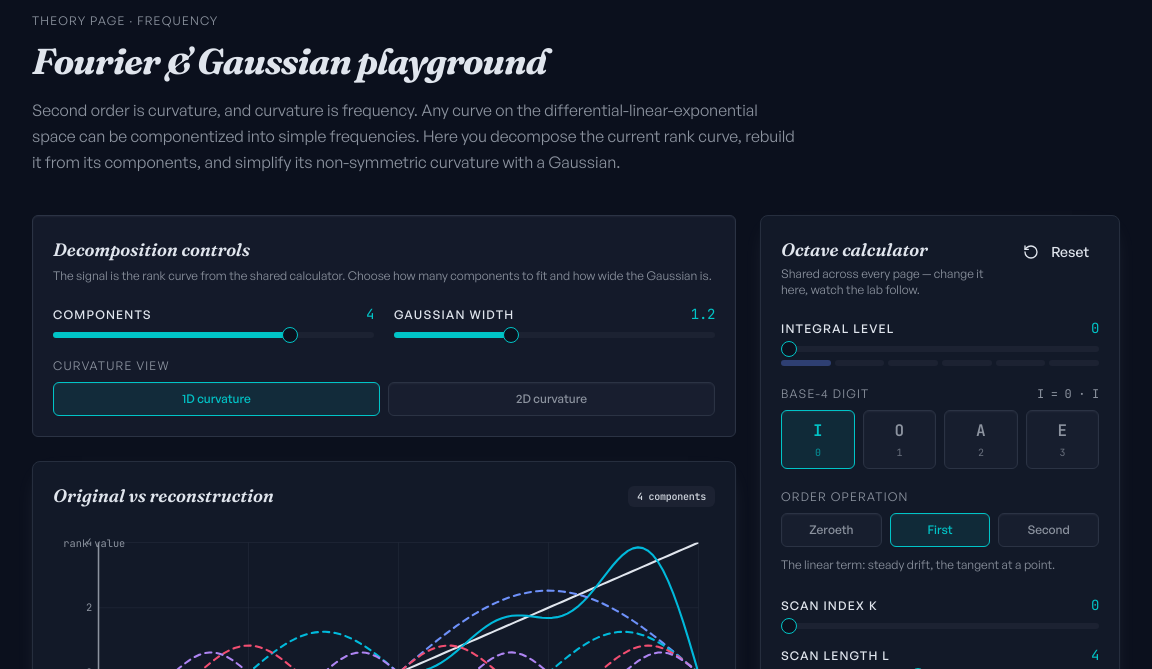
Test: FourierPage › switches to the 2D curvature view and shows the anisotropic field
Step 1. Click the radio button with test id "fourier.dimension.2" → (552, 399), box x1=388 y1=382 x2=715 y2=416
(page scrolled)
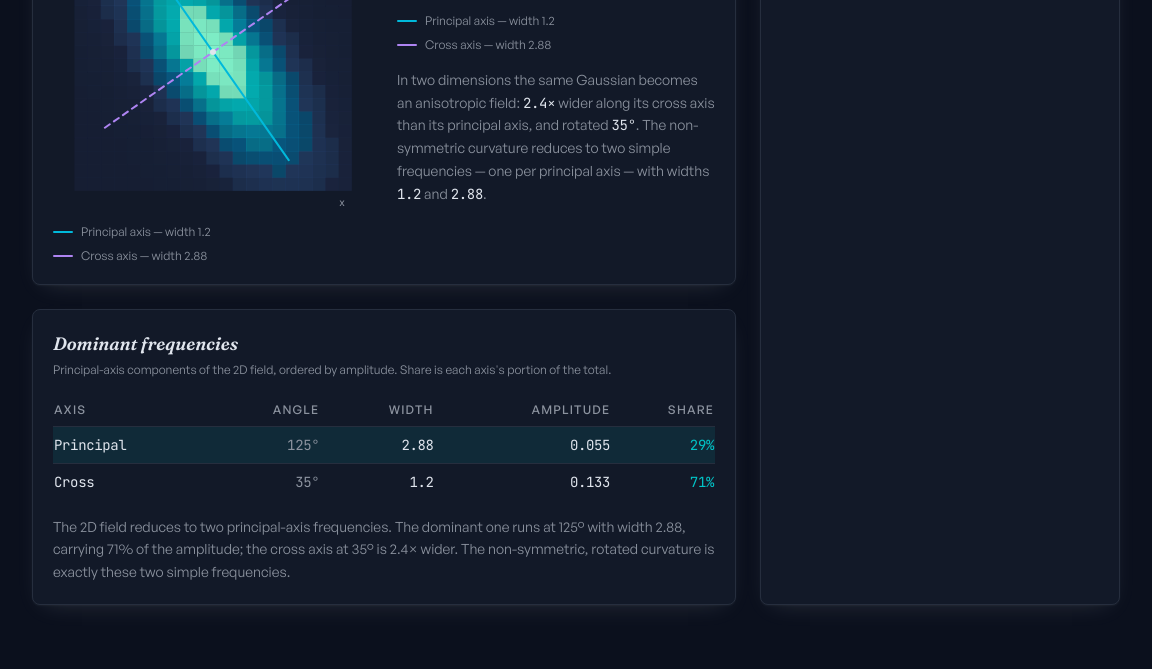
Expected: the text "Principal" is shown, x1=53 y1=426 x2=218 y2=463
Expected: the text "Cross" is shown, x1=53 y1=463 x2=218 y2=500
